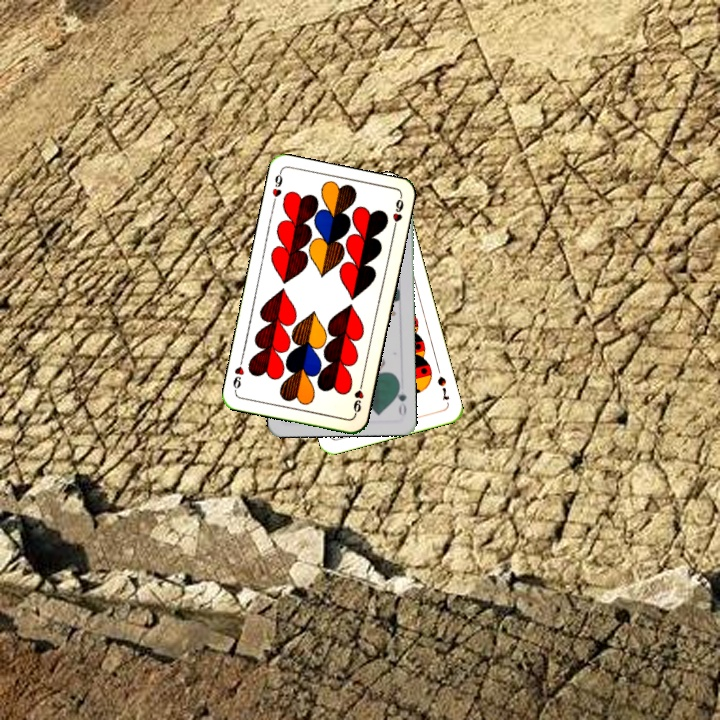GO: (391, 378, 409, 419)
H9: (268, 168, 285, 209), (349, 378, 366, 418)
S7: (433, 372, 452, 403)
